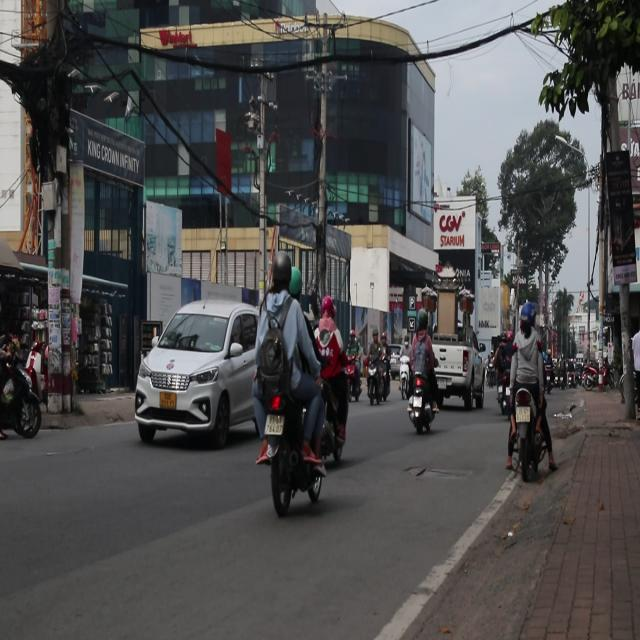car: (131, 295, 266, 448), (392, 343, 412, 386), (388, 343, 406, 363)
motorbike: (253, 336, 333, 516), (0, 330, 45, 439), (511, 388, 545, 486), (407, 372, 439, 435), (365, 344, 392, 406), (400, 358, 411, 400)
truck: (433, 339, 485, 410)
